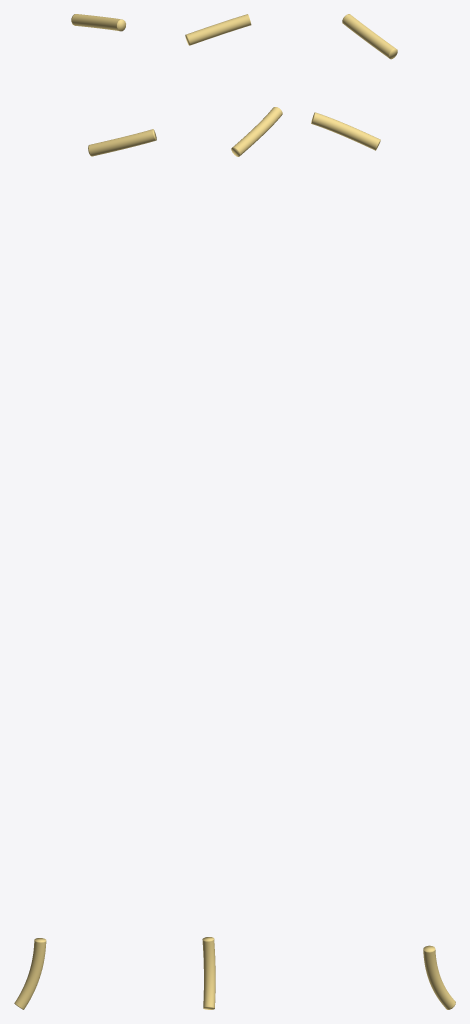
Rendered from duodenal-branches.glb.
3 views of the same model, side by side, from view 1: azimuth 90°, elevation 25°; view 2: azimuth 150°, elevation 25°; view 3: azimuth 270°, elevation 25° (orthographic). The views are drawn at different scales.
Visible parts, largest first — view 1: VMRA_DUODENAL_BRANCHES_01; view 2: VMRA_DUODENAL_BRANCHES_01; view 3: VMRA_DUODENAL_BRANCHES_01.
Boxes of the visible parts, x1=… form: VMRA_DUODENAL_BRANCHES_01: x1=14, y1=14, x2=156, y2=1009; VMRA_DUODENAL_BRANCHES_01: x1=185, y1=14, x2=282, y2=1009; VMRA_DUODENAL_BRANCHES_01: x1=311, y1=14, x2=455, y2=1009.
Size of the model in its own units: 0.0019 by 0.0287 by 0.00377.
